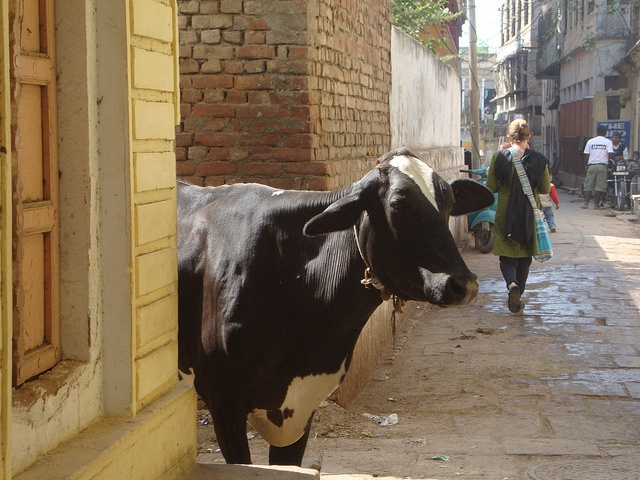non-vehicle: (468, 191, 498, 252), (606, 158, 635, 210)
